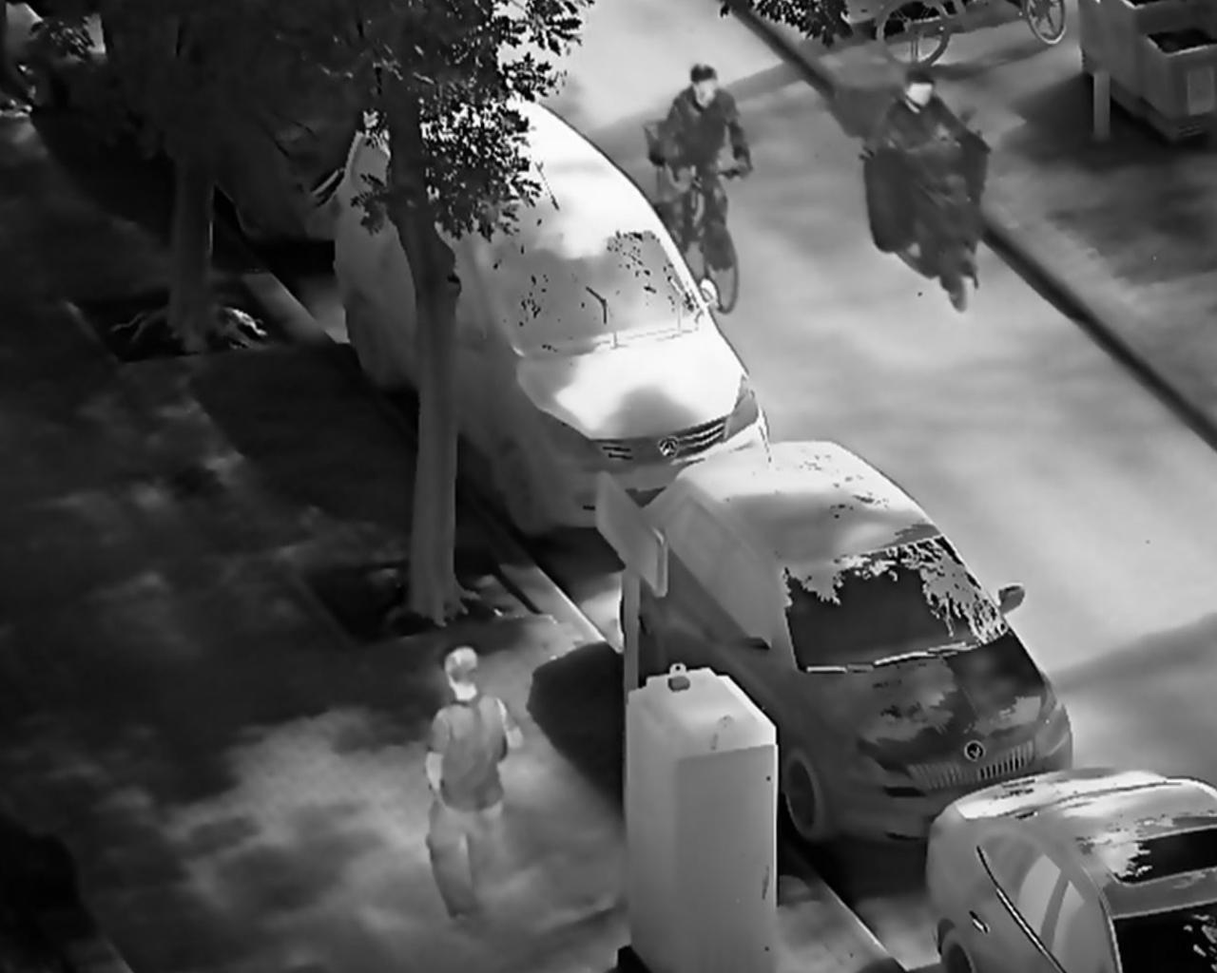person: (424, 645, 529, 938), (869, 62, 991, 262), (656, 63, 758, 270)
